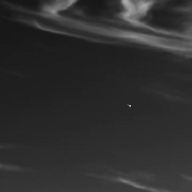Target: (127, 104, 132, 108)
